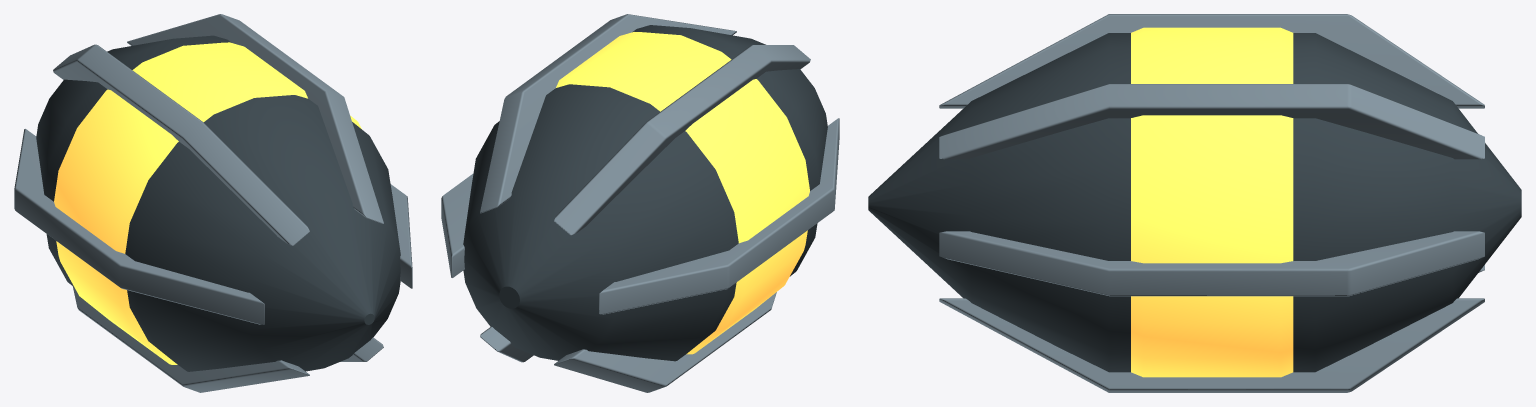
File: plasma.glb
The picture shows the model from 3 angles, left to right: view 1: azimuth 30°, elevation 25°; view 2: azimuth 150°, elevation 25°; view 3: azimuth 270°, elevation 25°; orthographic projection. The views are drawn at different scales.
Visible parts, largest first — view 1: plasma / Carbon ceramic, plasma / Machined titanium, plasma / Tracer ember; view 2: plasma / Carbon ceramic, plasma / Machined titanium, plasma / Tracer ember; view 3: plasma / Carbon ceramic, plasma / Machined titanium, plasma / Tracer ember.
Boxes of the visible parts, <box> form: plasma / Carbon ceramic: <box>36,35,400,371</box>; plasma / Machined titanium: <box>14,14,412,392</box>; plasma / Tracer ember: <box>54,42,361,364</box>; plasma / Carbon ceramic: <box>463,25,827,361</box>; plasma / Machined titanium: <box>441,14,839,392</box>; plasma / Tracer ember: <box>556,32,809,354</box>; plasma / Carbon ceramic: <box>868,33,1521,372</box>; plasma / Machined titanium: <box>939,14,1484,392</box>; plasma / Tracer ember: <box>1131,27,1293,377</box>.
Size of the model in its own units: 11 by 10.3 by 19.
